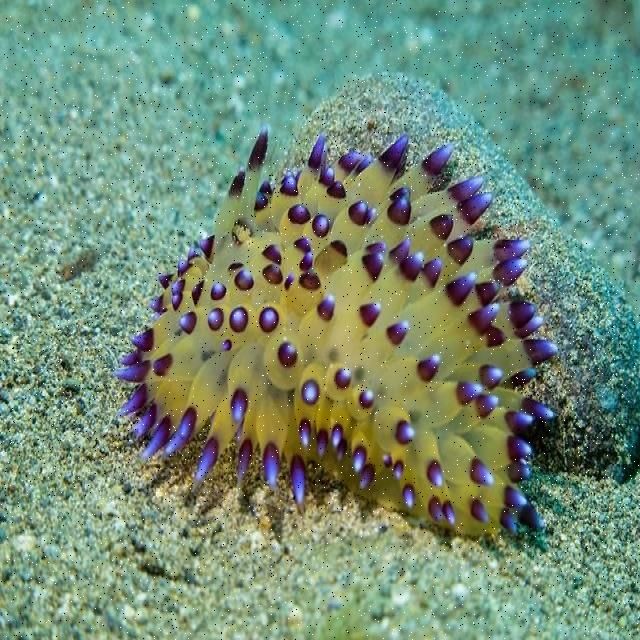reefs: (112, 122, 559, 536)
